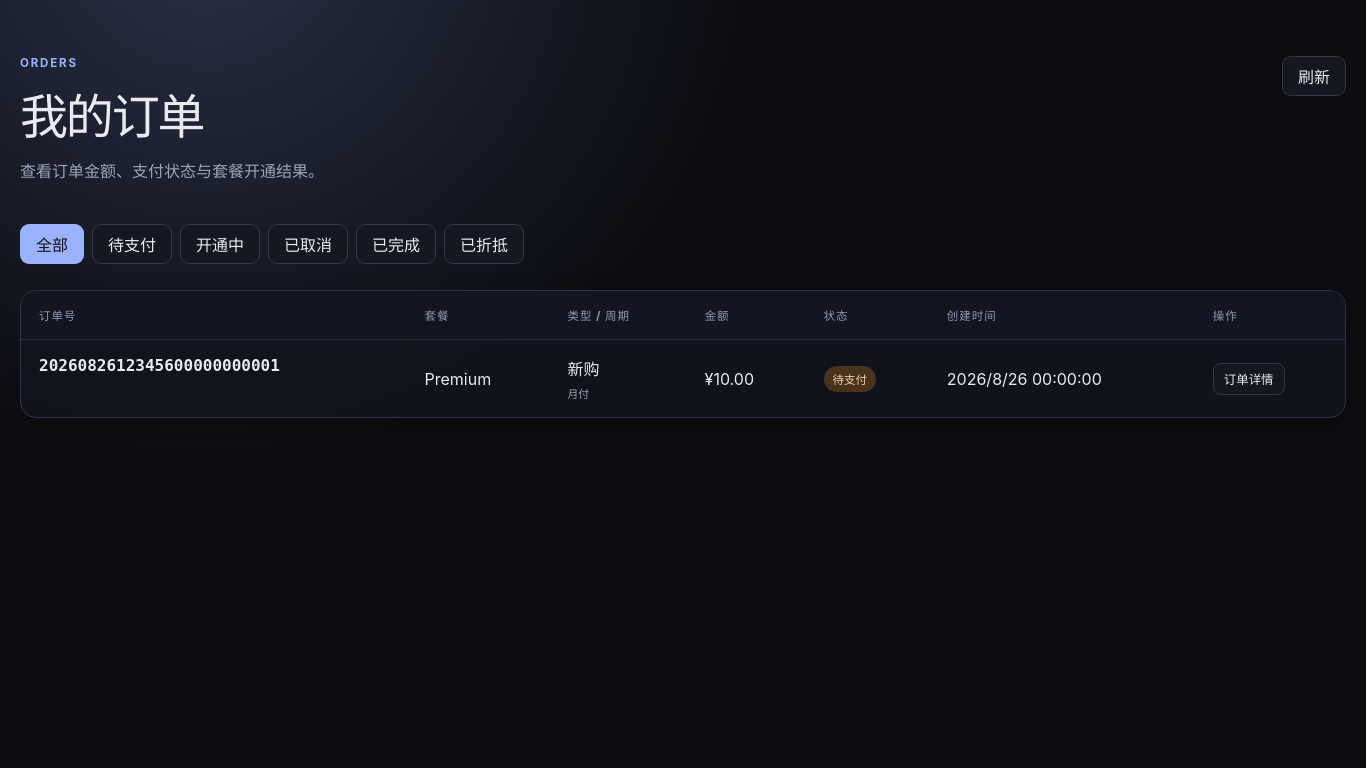
UserOrdersPage › does not resurrect a cancelled order when an earlier in-flight status-filtered list request resolves late
Expected: the text "2026082612345600000000001" is shown, [39,356,280,375]
Click the button "待支付".
click(132, 244)  # box [92,224,172,264]
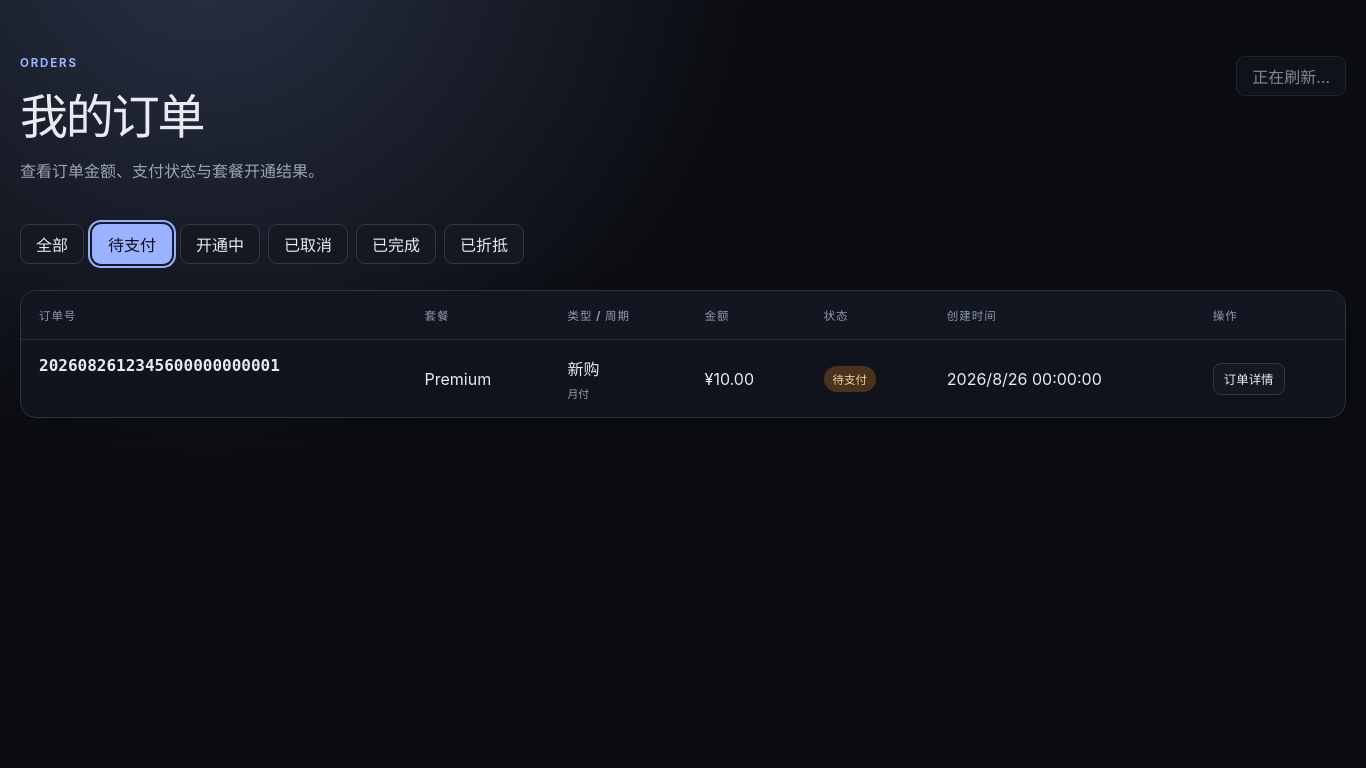
Click the button "订单详情".
click(1249, 378)  # box [1213,362,1285,394]
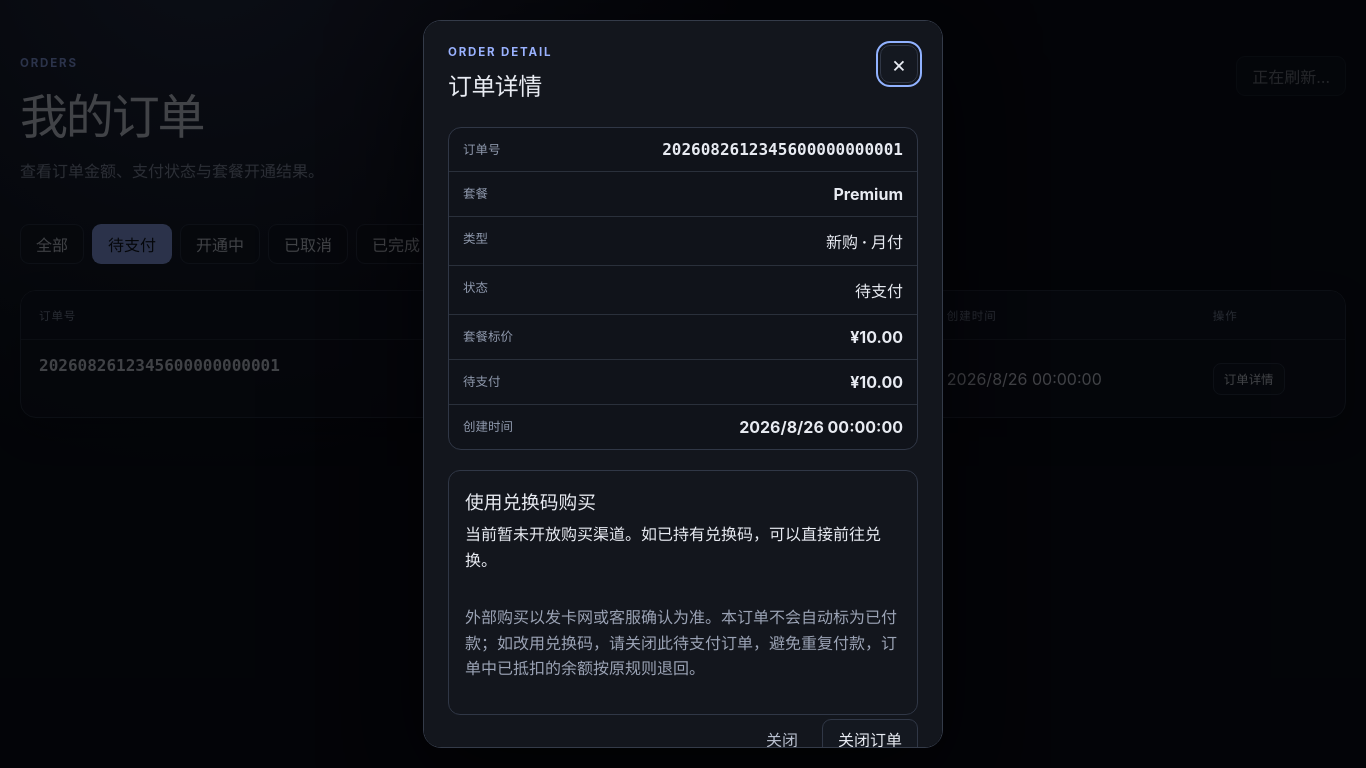
Click the button "关闭订单".
click(870, 739)  # box [822,719,918,759]
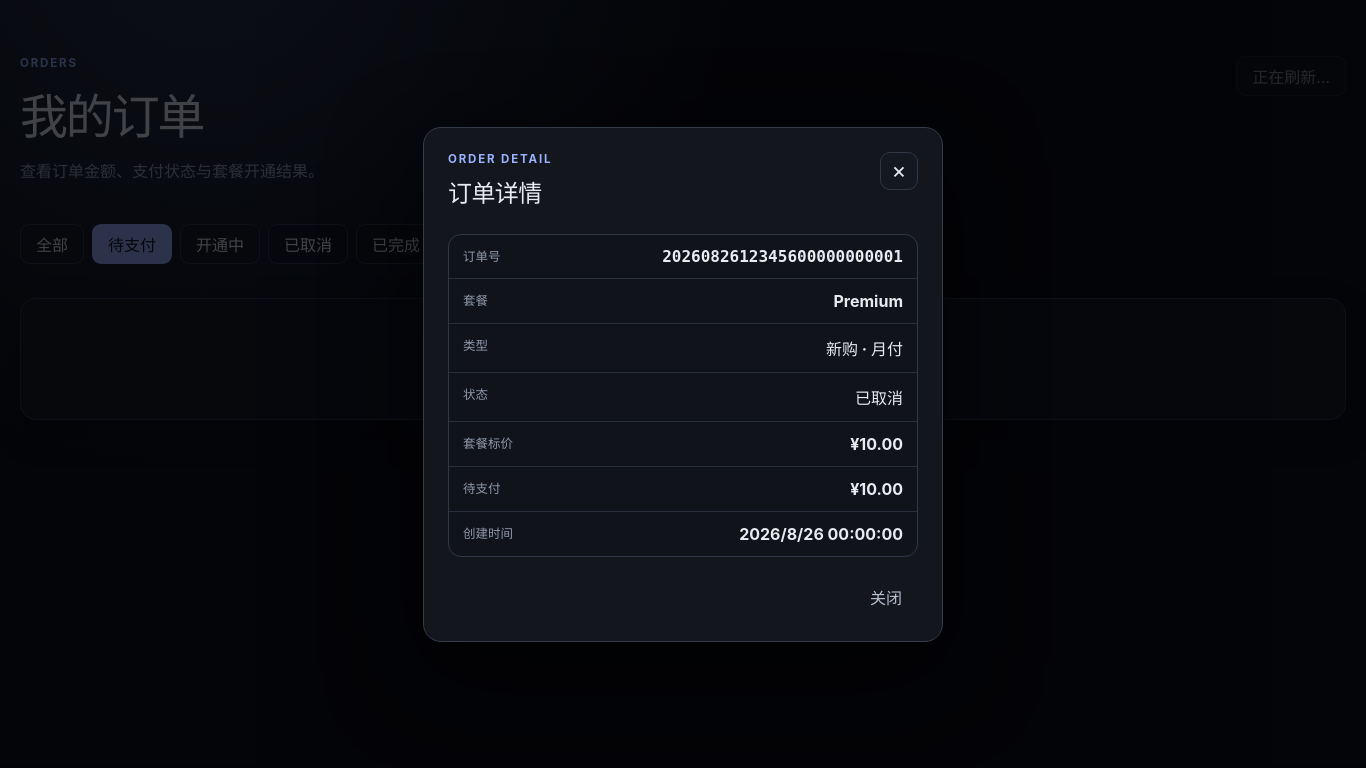
Click the button named "关闭订单详情".
click(899, 170)  # box [880,152,918,190]
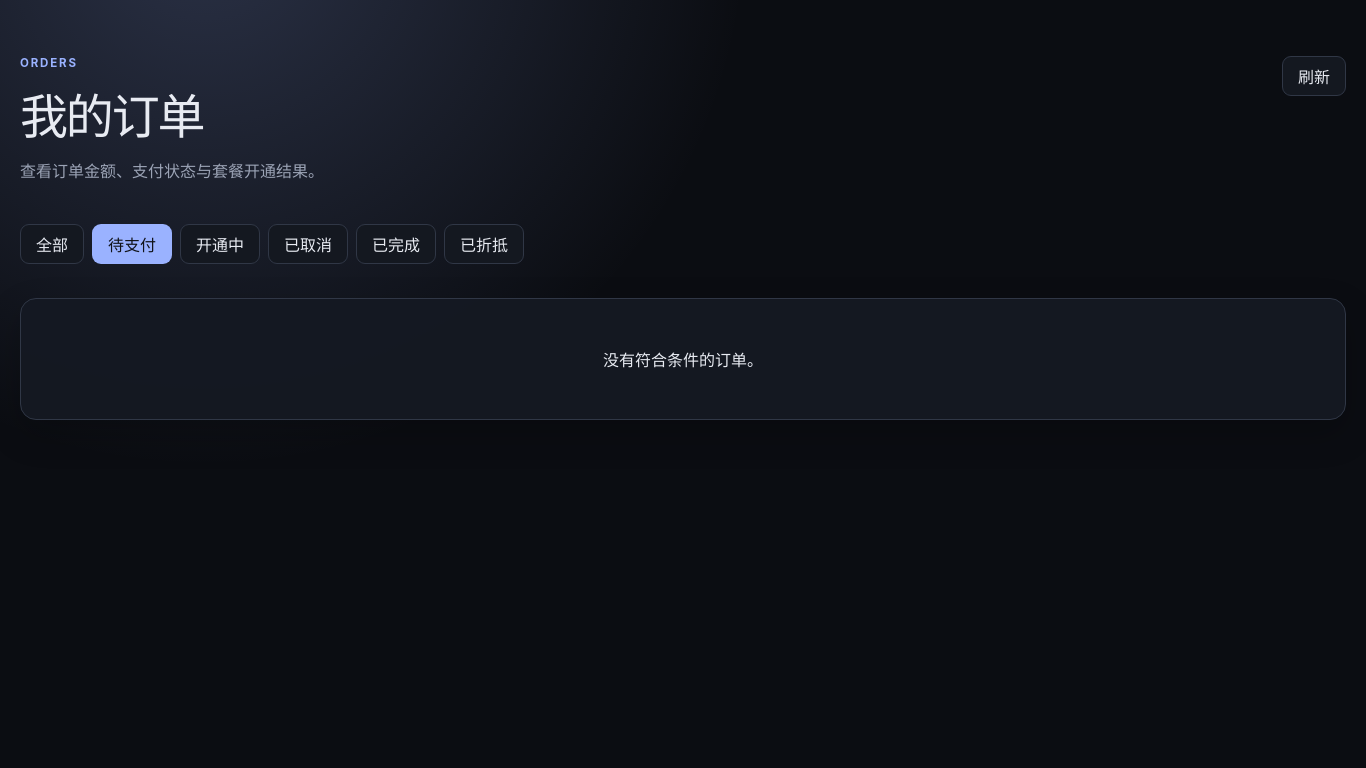
Result: the text "2026082612345600000000001" is gone
Result: the text "没有符合条件的订单。" is shown at [20,298,1346,420]
